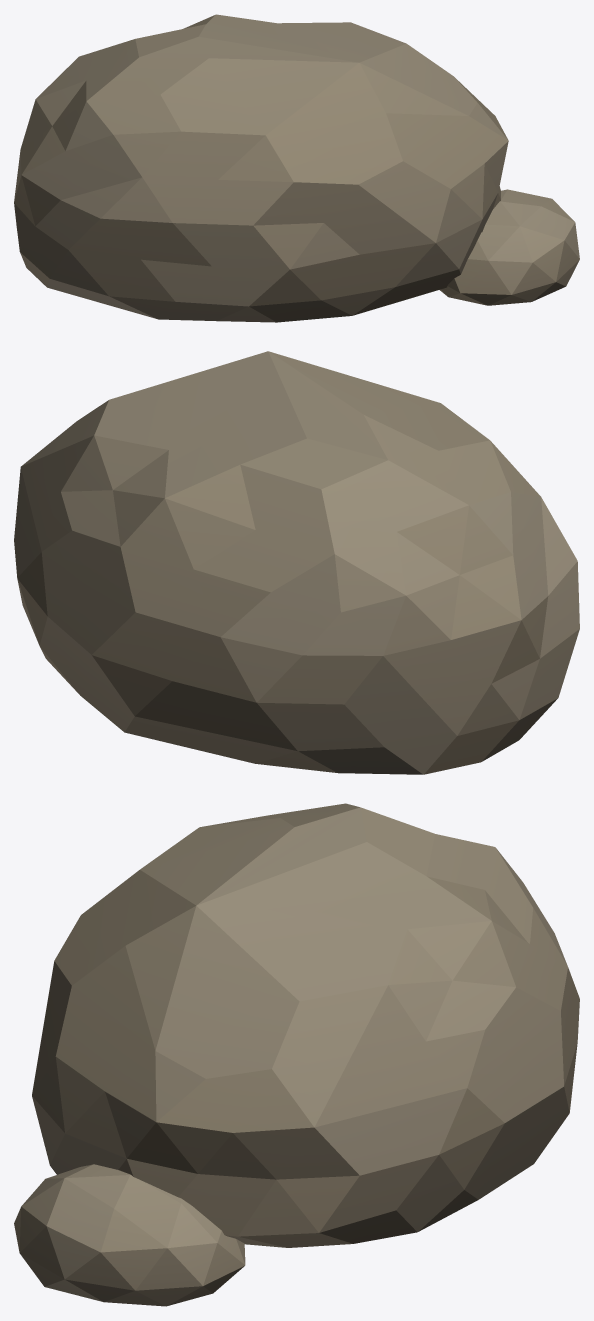
The model's file is ground_rock_medium_v3.fbx.
The picture shows the model from 3 angles, top to bottom: view 1: azimuth 30°, elevation 25°; view 2: azimuth 150°, elevation 25°; view 3: azimuth 270°, elevation 25°; orthographic projection. The views are drawn at different scales.
Parts seen in each view (by area): view 1: ground_rock_medium_v3; view 2: ground_rock_medium_v3; view 3: ground_rock_medium_v3.
Part boxes in pixels (x1,y1,x2,y2): ground_rock_medium_v3: (14, 14, 579, 322); ground_rock_medium_v3: (14, 351, 579, 774); ground_rock_medium_v3: (14, 803, 579, 1306).
Size of the model in its own units: 489 by 227 by 399.
